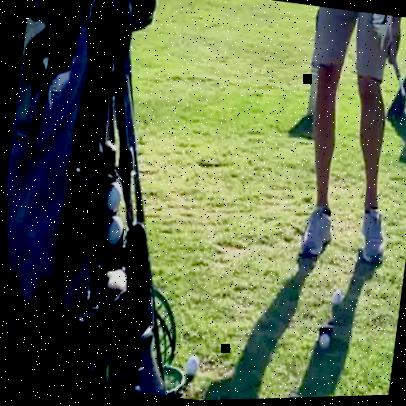ClubHead: (328, 289, 343, 311)
